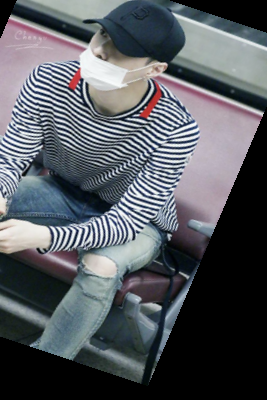mask_weared_incorrect: (75, 2, 210, 113)
